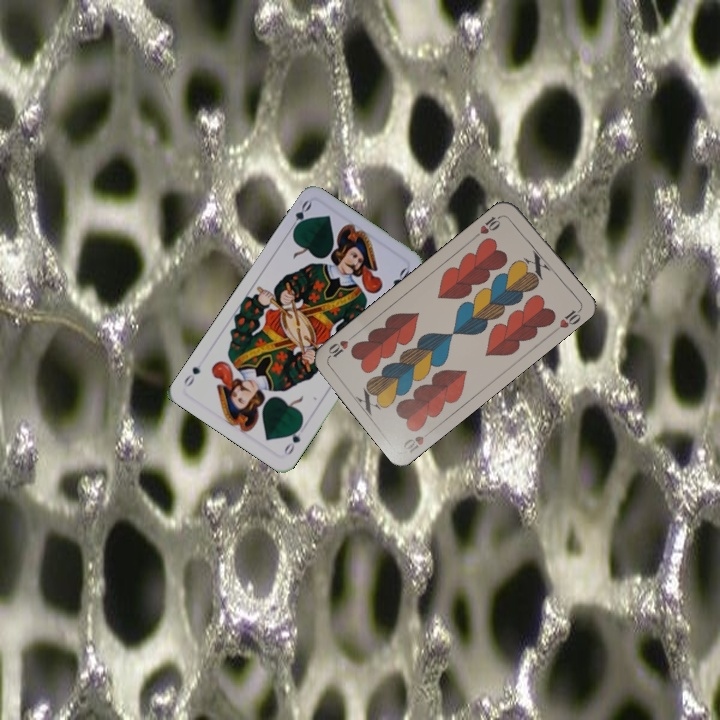GO: (285, 196, 314, 235), (280, 420, 305, 458)
H10: (399, 425, 436, 455), (471, 211, 506, 240)
